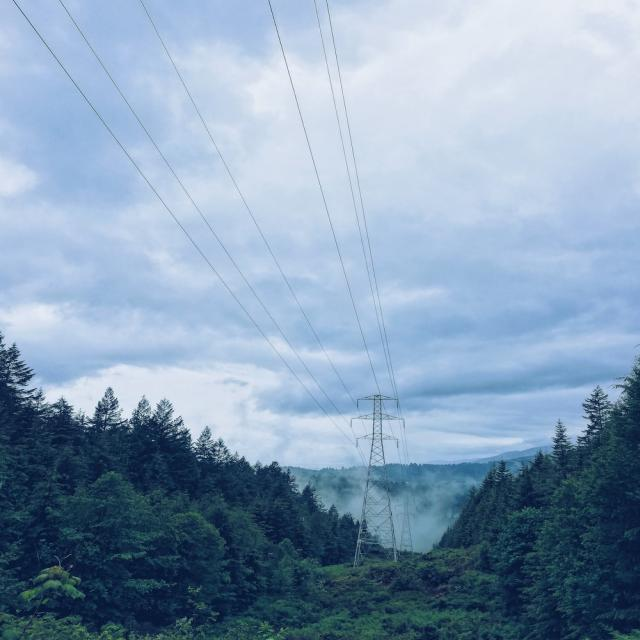transmission tower: (317, 377, 431, 569)
